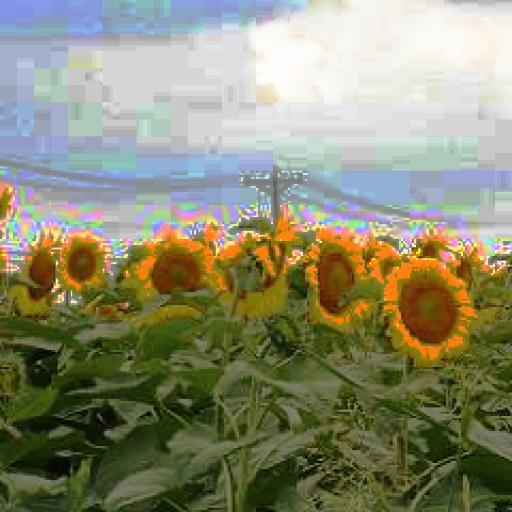sunflower: (382, 258, 471, 365), (209, 228, 294, 322), (301, 226, 375, 333), (126, 237, 217, 301), (17, 237, 64, 311), (60, 235, 104, 292)
